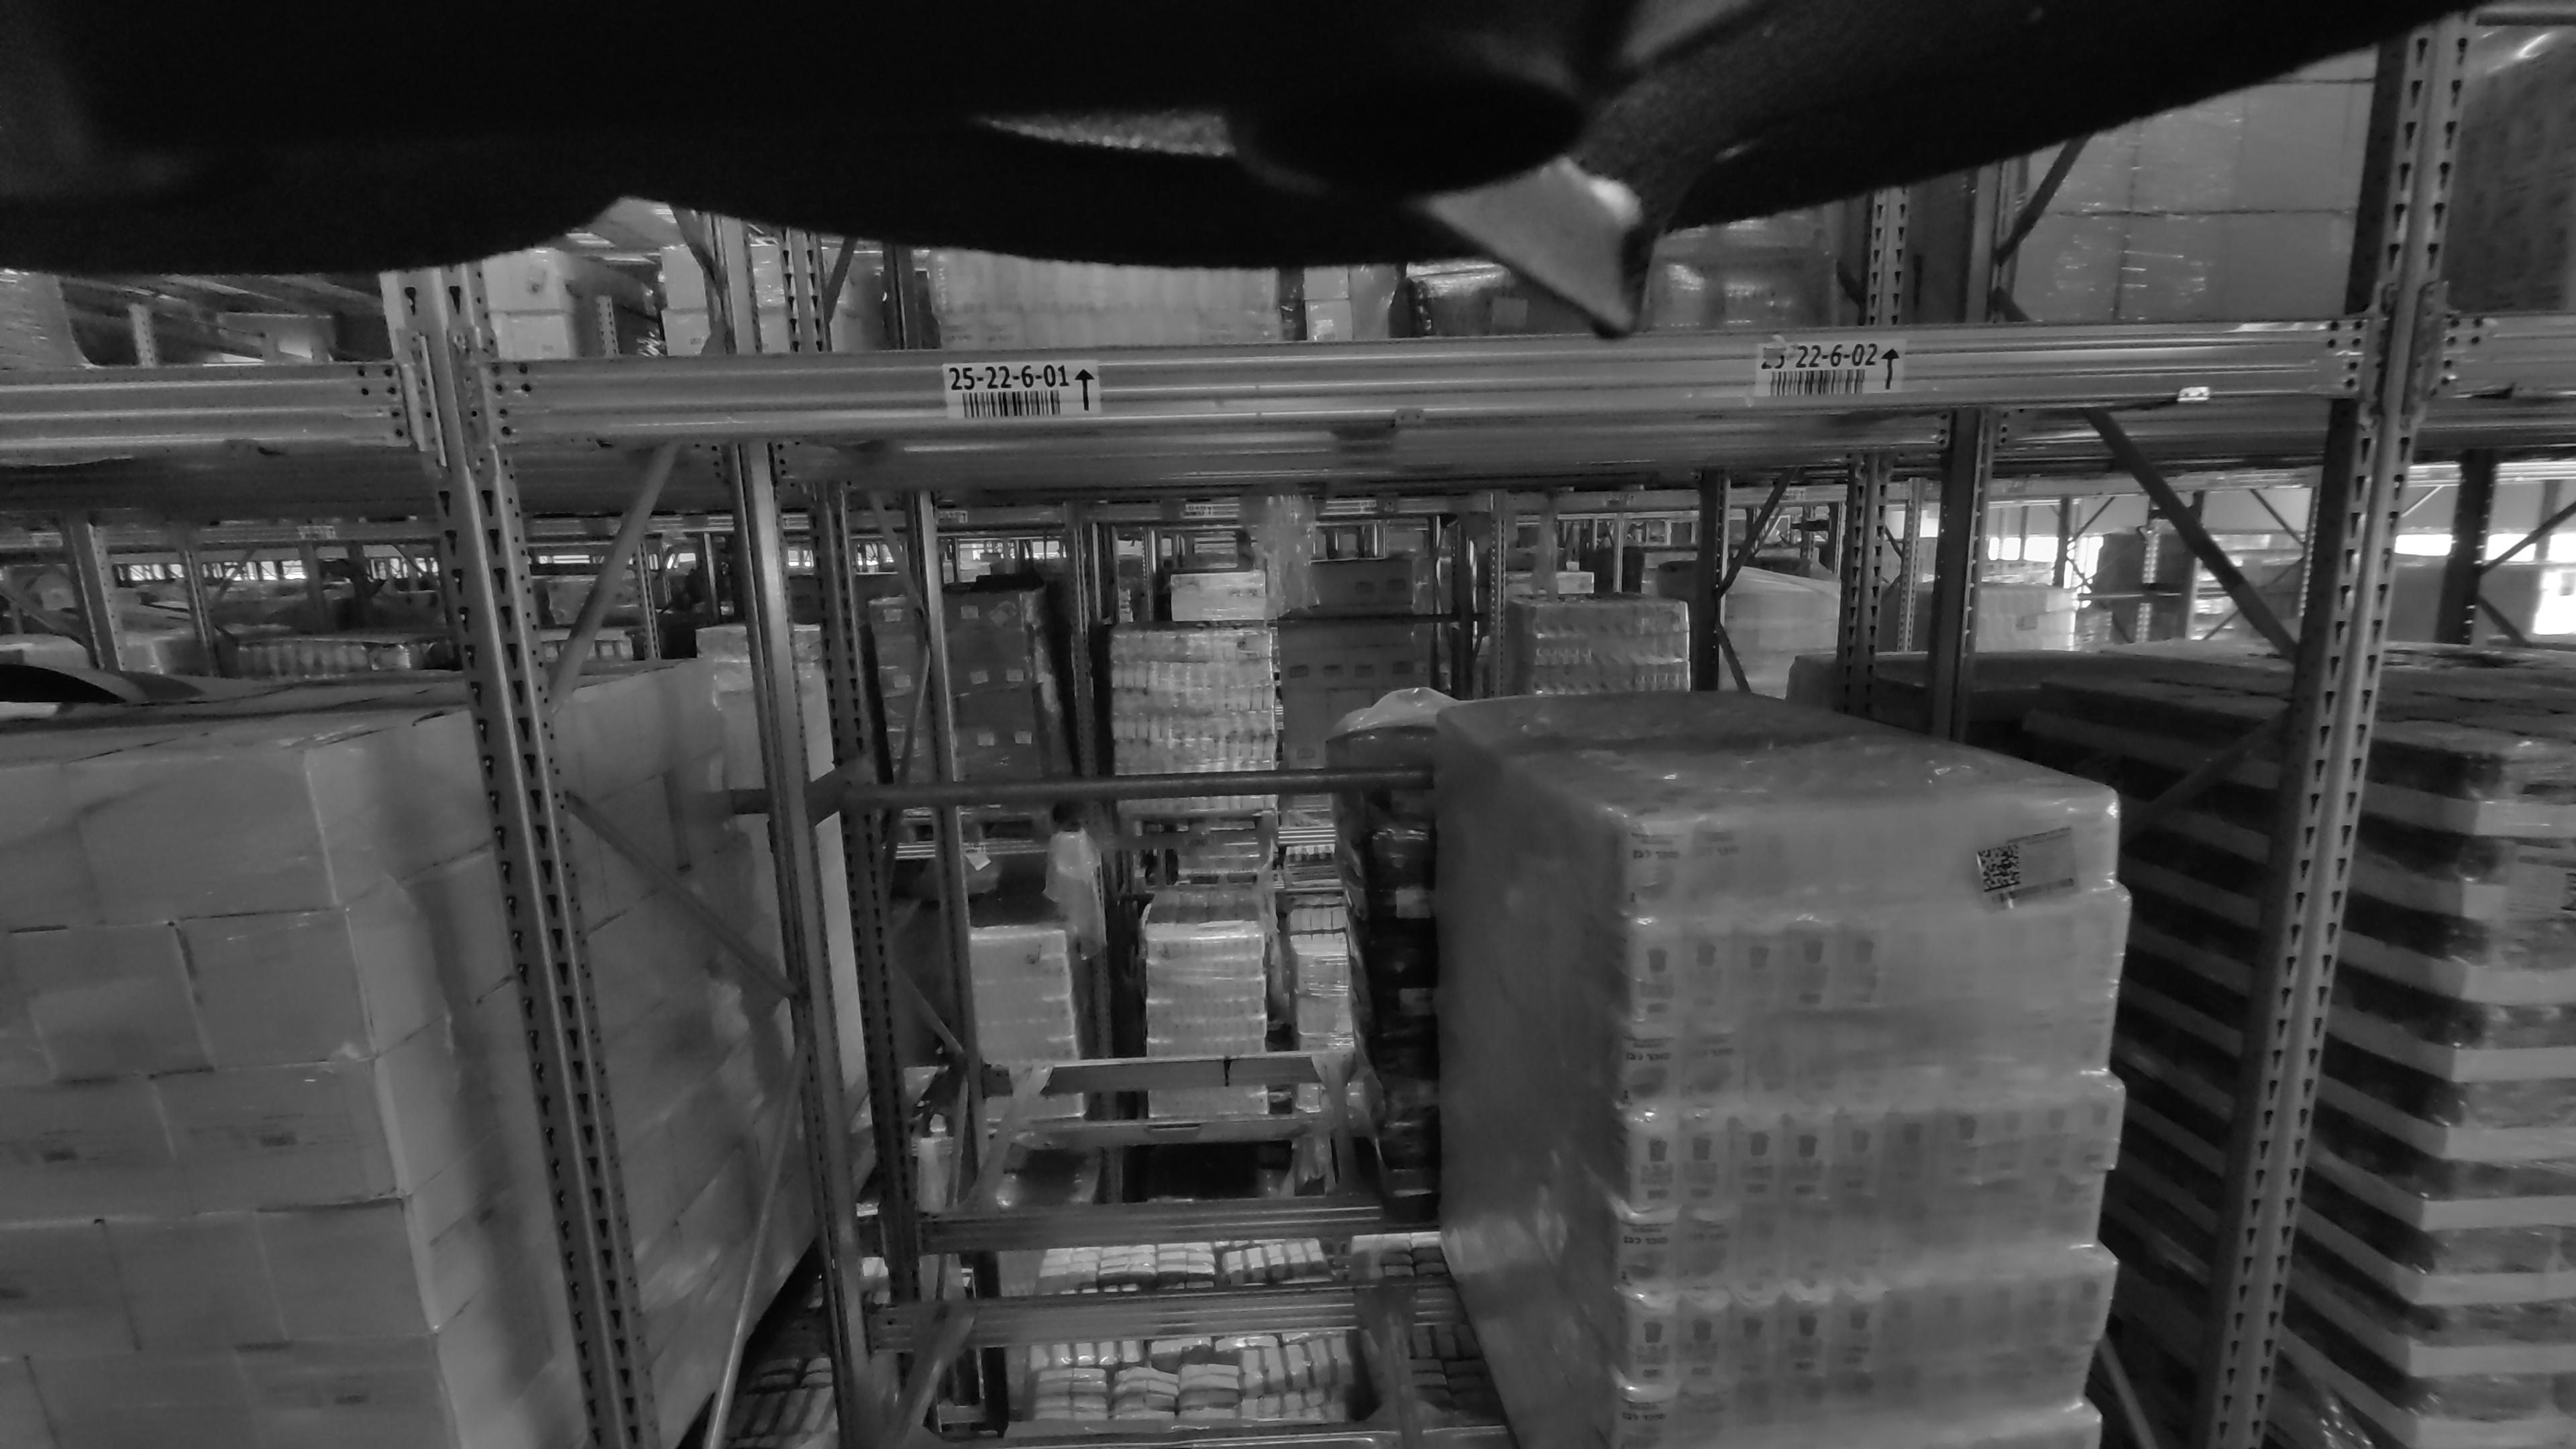empty-shelf: (867, 435, 1431, 1449), (982, 494, 1336, 1198)
